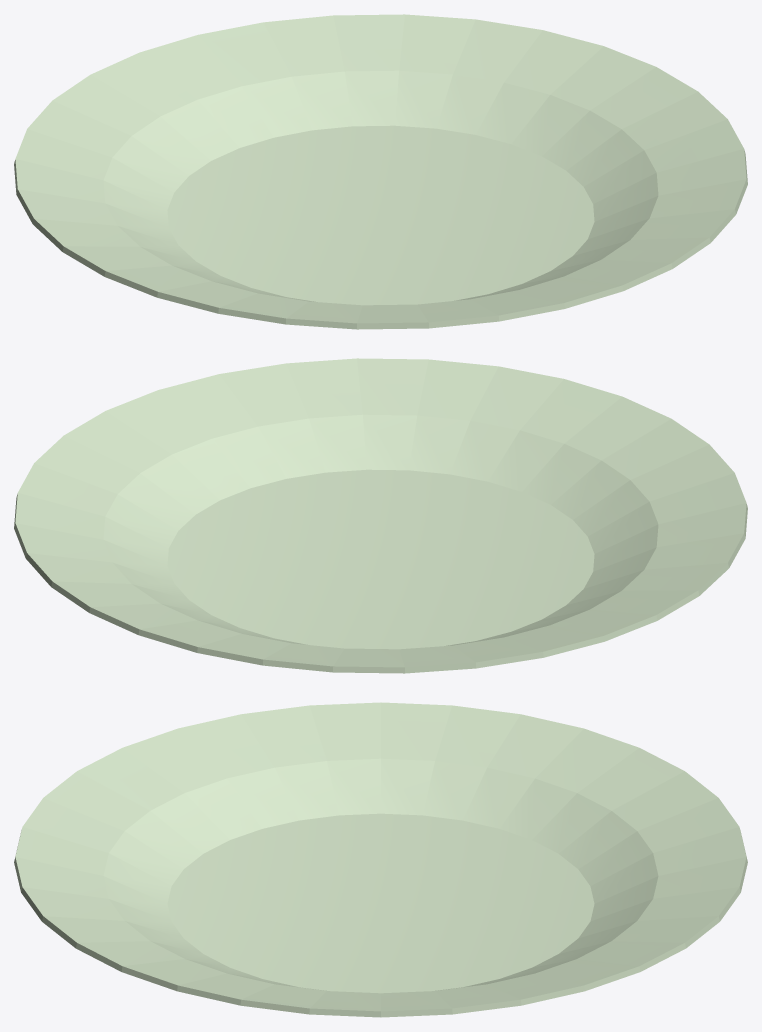
Rendered from PLATEFixed.fbx.
The picture shows the model from 3 angles, top to bottom: view 1: azimuth 30°, elevation 25°; view 2: azimuth 150°, elevation 25°; view 3: azimuth 270°, elevation 25°; orthographic projection.
Parts seen in each view (by area): view 1: Circle; view 2: Circle; view 3: Circle.
Boxes of the visible parts, x1,y1,x2,y2 form: Circle: (14,14,747,329); Circle: (14,358,747,673); Circle: (14,702,747,1017).
Bounding box in the file's own units: 178 × 14.04 × 178.
